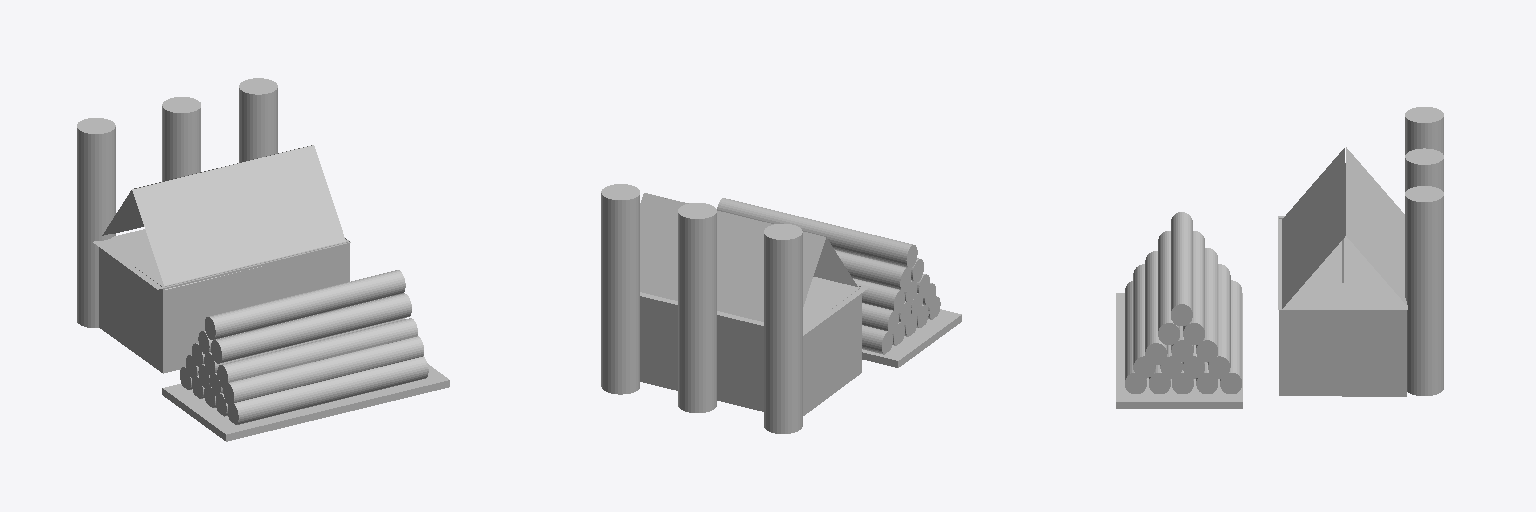
The model's file is lumberjack.obj.
3 renders of one model, left to right at view 1: azimuth 30°, elevation 25°; view 2: azimuth 150°, elevation 25°; view 3: azimuth 270°, elevation 25°, orthographic.
Parts seen in each view (by area): view 1: Plane.002, Cube.004, Cylinder.002_Cylinder.003, Cylinder.016_Cylinder.021, Cylinder.017_Cylinder.022, Cube_Cube.005, Cylinder.003_Cylinder.001, Cylinder.010_Cylinder.015, Cylinder.014_Cylinder.019, Cylinder.001_Cylinder.002, Cylinder, Plane.001 (+1 smaller); view 2: Cube.004, Plane, Cylinder, Cylinder.001_Cylinder.002, Cylinder.002_Cylinder.003, Cylinder.017_Cylinder.022, Plane.001, Cube_Cube.005, Cylinder.013_Cylinder.018, Plane.002, Cylinder.012_Cylinder.017, Cylinder.008_Cylinder.013 (+1 smaller); view 3: Cube.004, Cylinder, Plane.002, Plane, Plane.001, Cube_Cube.005, Cylinder.017_Cylinder.022, Cylinder.002_Cylinder.003, Cylinder.014_Cylinder.019, Cylinder.016_Cylinder.021, Cylinder.012_Cylinder.017, Cylinder.008_Cylinder.013 (+5 smaller).
Part boxes in pixels (bbox=[...]): Plane.002: bbox=[132, 145, 345, 289]; Cube.004: bbox=[99, 238, 349, 373]; Cylinder.002_Cylinder.003: bbox=[77, 118, 115, 327]; Cylinder.016_Cylinder.021: bbox=[211, 293, 411, 363]; Cylinder.017_Cylinder.022: bbox=[205, 270, 405, 339]; Cube_Cube.005: bbox=[162, 363, 449, 441]; Cylinder.003_Cylinder.001: bbox=[228, 356, 428, 424]; Cylinder.010_Cylinder.015: bbox=[223, 336, 423, 403]; Cylinder.014_Cylinder.019: bbox=[217, 318, 417, 387]; Cylinder.001_Cylinder.002: bbox=[162, 97, 200, 181]; Cylinder: bbox=[239, 78, 277, 162]; Plane.001: bbox=[93, 229, 350, 289]; Cube.004: bbox=[640, 286, 861, 415]; Plane: bbox=[640, 193, 825, 321]; Cylinder: bbox=[601, 184, 639, 394]; Cylinder.001_Cylinder.002: bbox=[678, 203, 716, 412]; Cylinder.002_Cylinder.003: bbox=[764, 224, 802, 433]; Cylinder.017_Cylinder.022: bbox=[717, 198, 917, 267]; Plane.001: bbox=[640, 277, 867, 335]; Cube_Cube.005: bbox=[862, 309, 961, 367]; Cylinder.013_Cylinder.018: bbox=[835, 250, 910, 291]; Plane.002: bbox=[665, 198, 857, 286]; Cylinder.012_Cylinder.017: bbox=[853, 278, 904, 313]; Cylinder.008_Cylinder.013: bbox=[862, 303, 898, 333]; Cube.004: bbox=[1279, 218, 1406, 396]; Cylinder: bbox=[1405, 186, 1443, 395]; Plane.002: bbox=[1282, 148, 1345, 308]; Plane: bbox=[1346, 147, 1406, 304]; Plane.001: bbox=[1278, 216, 1407, 309]; Cube_Cube.005: bbox=[1116, 293, 1242, 408]; Cylinder.017_Cylinder.022: bbox=[1171, 212, 1192, 325]; Cylinder.002_Cylinder.003: bbox=[1405, 107, 1443, 154]; Cylinder.014_Cylinder.019: bbox=[1145, 251, 1167, 364]; Cylinder.016_Cylinder.021: bbox=[1158, 231, 1179, 344]; Cylinder.012_Cylinder.017: bbox=[1196, 248, 1217, 362]; Cylinder.008_Cylinder.013: bbox=[1208, 264, 1230, 378].
Size of the model in its own units: 7.98 by 6.71 by 10.13.